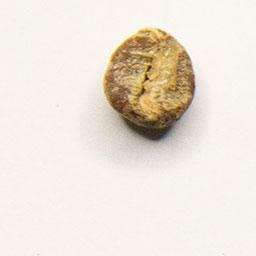defect: (97, 21, 201, 135)
